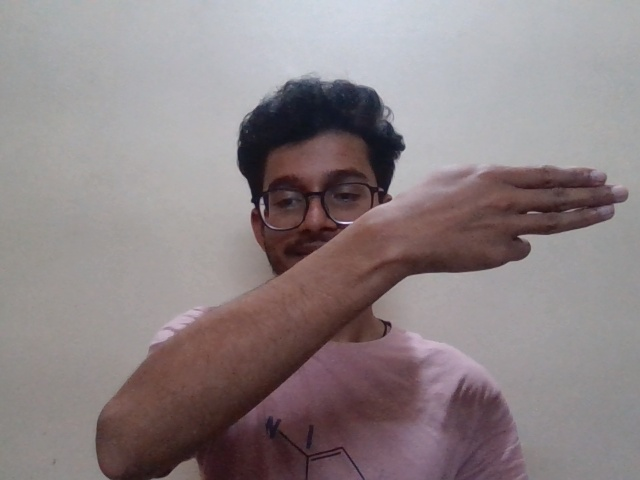wednesday: (370, 158, 630, 287)
